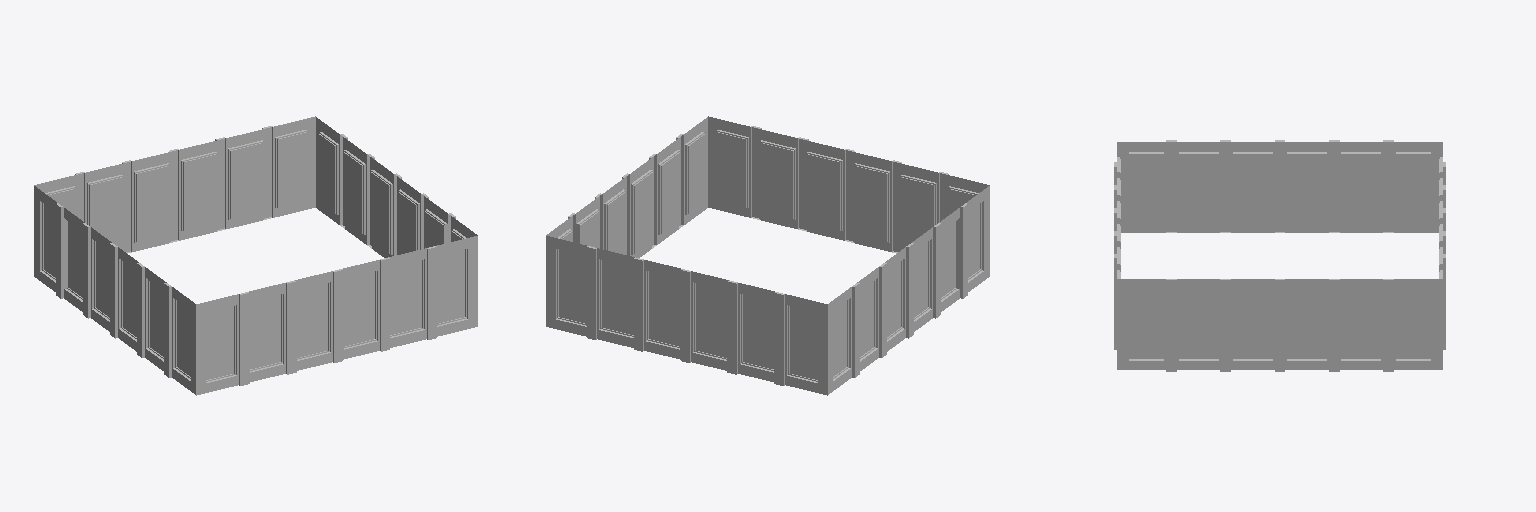
Rendered from BuildingBase_1x1_B.obj.
The picture shows the model from 3 angles: view 1: azimuth 30°, elevation 25°; view 2: azimuth 150°, elevation 25°; view 3: azimuth 270°, elevation 25°; orthographic projection.
Visible parts, largest first — view 1: 1x1_FloorBase_Cube.004; view 2: 1x1_FloorBase_Cube.004; view 3: 1x1_FloorBase_Cube.004.
Part boxes in pixels (bbox=[...]): 1x1_FloorBase_Cube.004: bbox=[34, 116, 477, 395]; 1x1_FloorBase_Cube.004: bbox=[546, 116, 989, 395]; 1x1_FloorBase_Cube.004: bbox=[1114, 140, 1445, 371].
Bounding box in the file's own units: 2.04 × 0.6189 × 2.04.